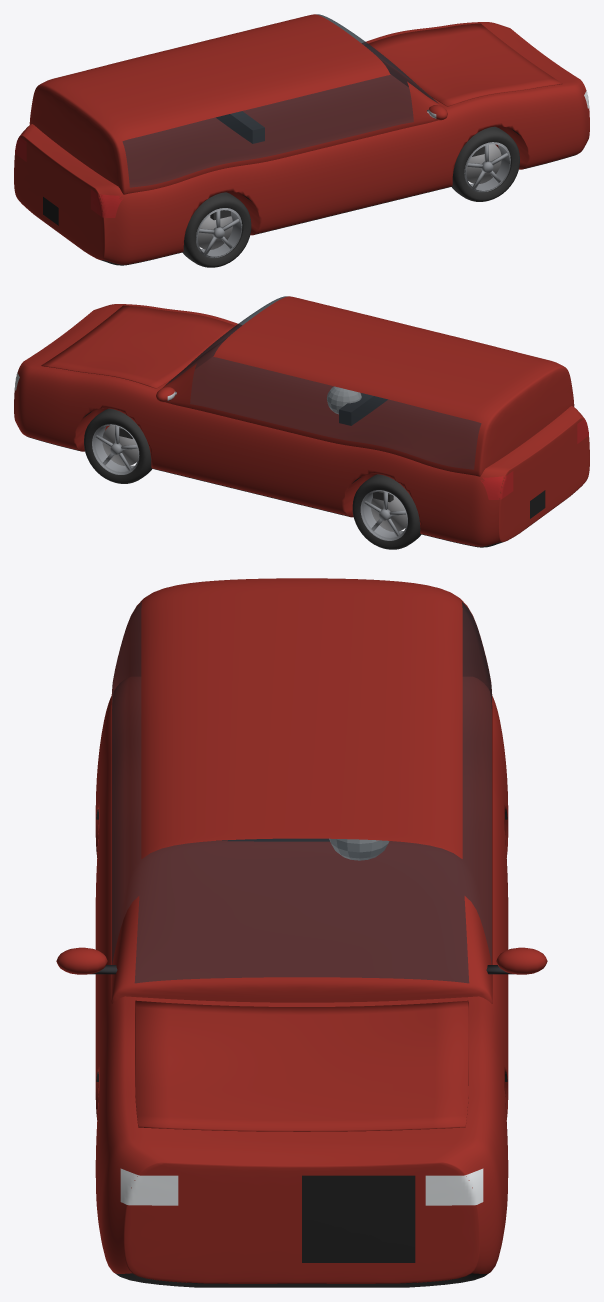
The model's file is derby_halvorsen_240.glb.
3 views of the same model, one above another, from view 1: azimuth 30°, elevation 25°; view 2: azimuth 150°, elevation 25°; view 3: azimuth 270°, elevation 25° (orthographic). The views are drawn at different scales.
Parts seen in each view (by area): view 1: cabin, body, bumper_rear, bonnet, wheel_fr_spin, wheel_rr_spin, bumper_front, interior; view 2: cabin, body, bumper_rear, bonnet, wheel_fl_spin, wheel_rl_spin, bumper_front, interior; view 3: cabin, body, bumper_front, bonnet, interior, mirror_l, mirror_r.
Boxes of the visible parts, bbox=[...] form: cabin: bbox=[29, 14, 440, 194]; body: bbox=[122, 22, 569, 264]; bumper_rear: bbox=[14, 124, 131, 265]; bonnet: bbox=[364, 23, 562, 106]; wheel_fr_spin: bbox=[452, 126, 519, 201]; wheel_rr_spin: bbox=[182, 192, 251, 267]; bumper_front: bbox=[476, 22, 589, 157]; interior: bbox=[216, 111, 264, 143]; cabin: bbox=[163, 296, 574, 476]; body: bbox=[34, 304, 481, 546]; bumper_rear: bbox=[472, 406, 589, 547]; bonnet: bbox=[41, 305, 239, 388]; wheel_fl_spin: bbox=[84, 408, 151, 483]; wheel_rl_spin: bbox=[352, 474, 421, 549]; bumper_front: bbox=[14, 304, 127, 439]; interior: bbox=[327, 386, 387, 425]; cabin: bbox=[111, 578, 492, 1003]; body: bbox=[95, 681, 508, 1239]; bumper_front: bbox=[99, 1124, 504, 1287]; bonnet: bbox=[135, 1000, 468, 1131]; interior: bbox=[216, 838, 389, 860]; mirror_l: bbox=[486, 947, 547, 974]; mirror_r: bbox=[56, 947, 117, 974].
Bounding box in the file's own units: 4.81 × 1.45 × 2.1.
